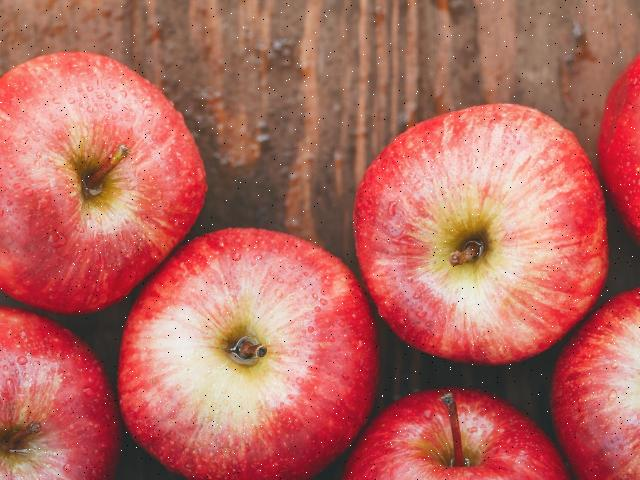apple: (115, 228, 381, 478), (354, 102, 608, 359), (0, 48, 212, 311), (1, 304, 117, 480), (350, 388, 570, 480)
